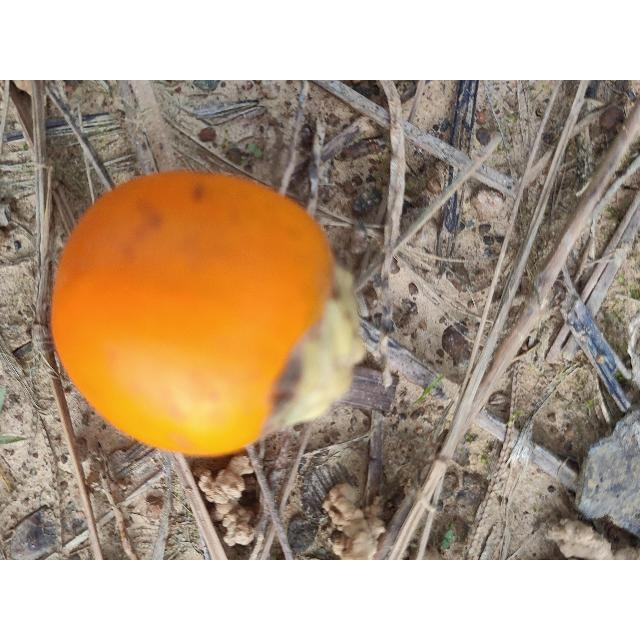good: (48, 171, 365, 460)
